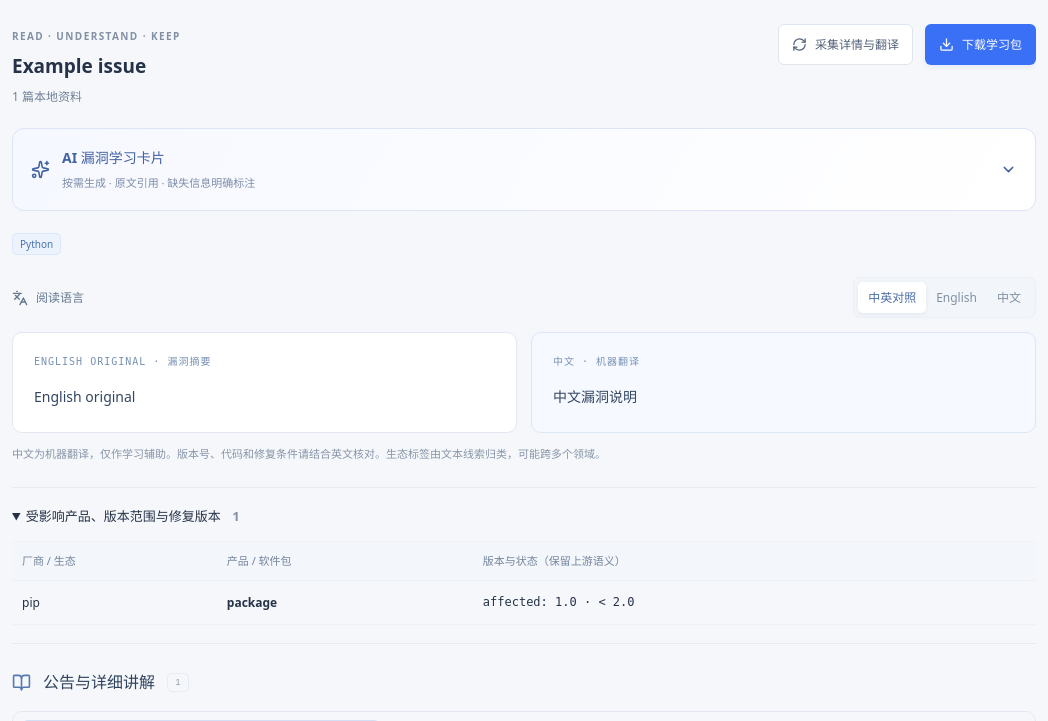
Test: local study reader › renders bilingual content as inert text, preserves ranges and exposes the bundle
Click the button "中文" at point(1009, 298), box [987,282,1031,313]
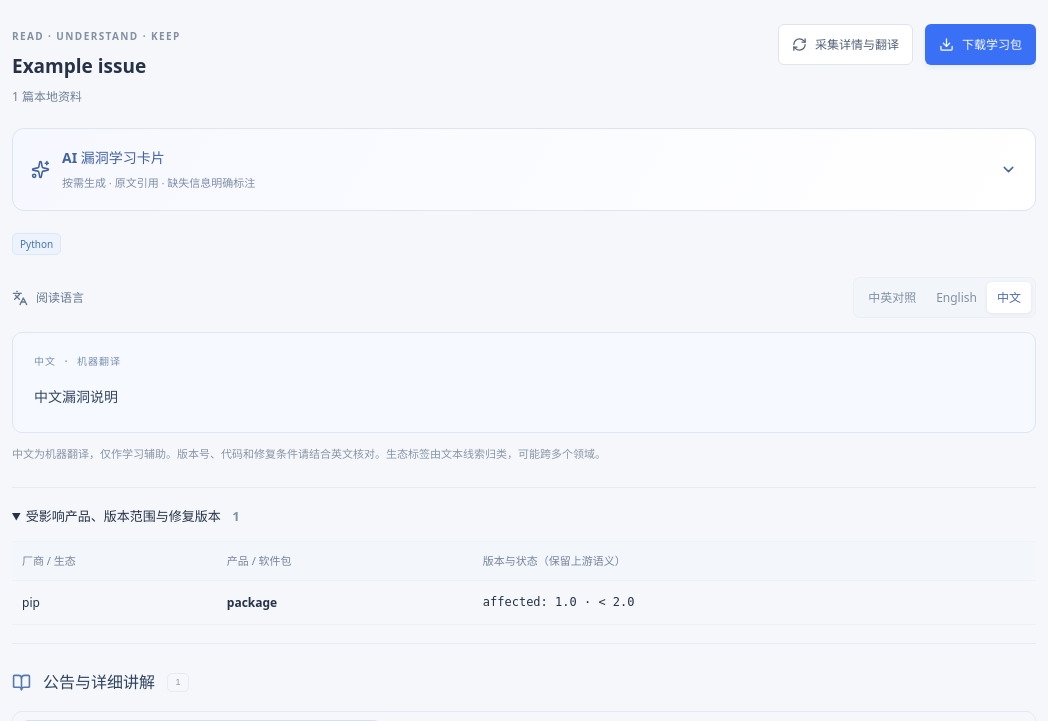
Result: the text "ENGLISH ORIGINAL" is gone
